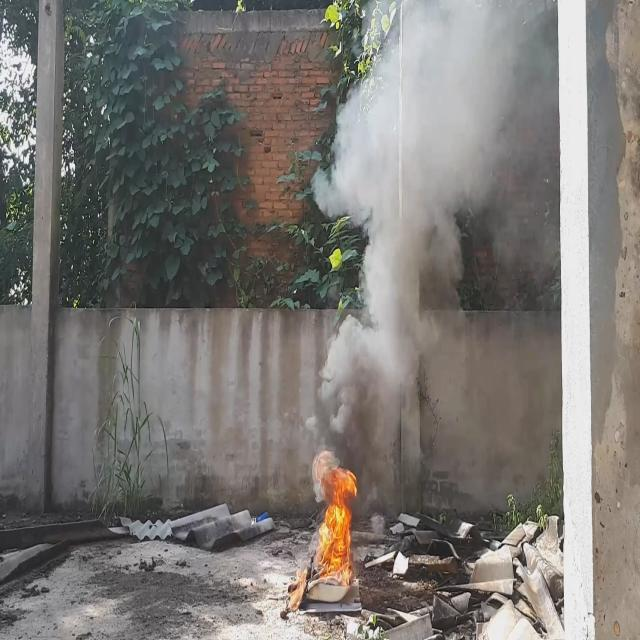Fire: (312, 462, 362, 590)
Smoke: (304, 0, 523, 505)
